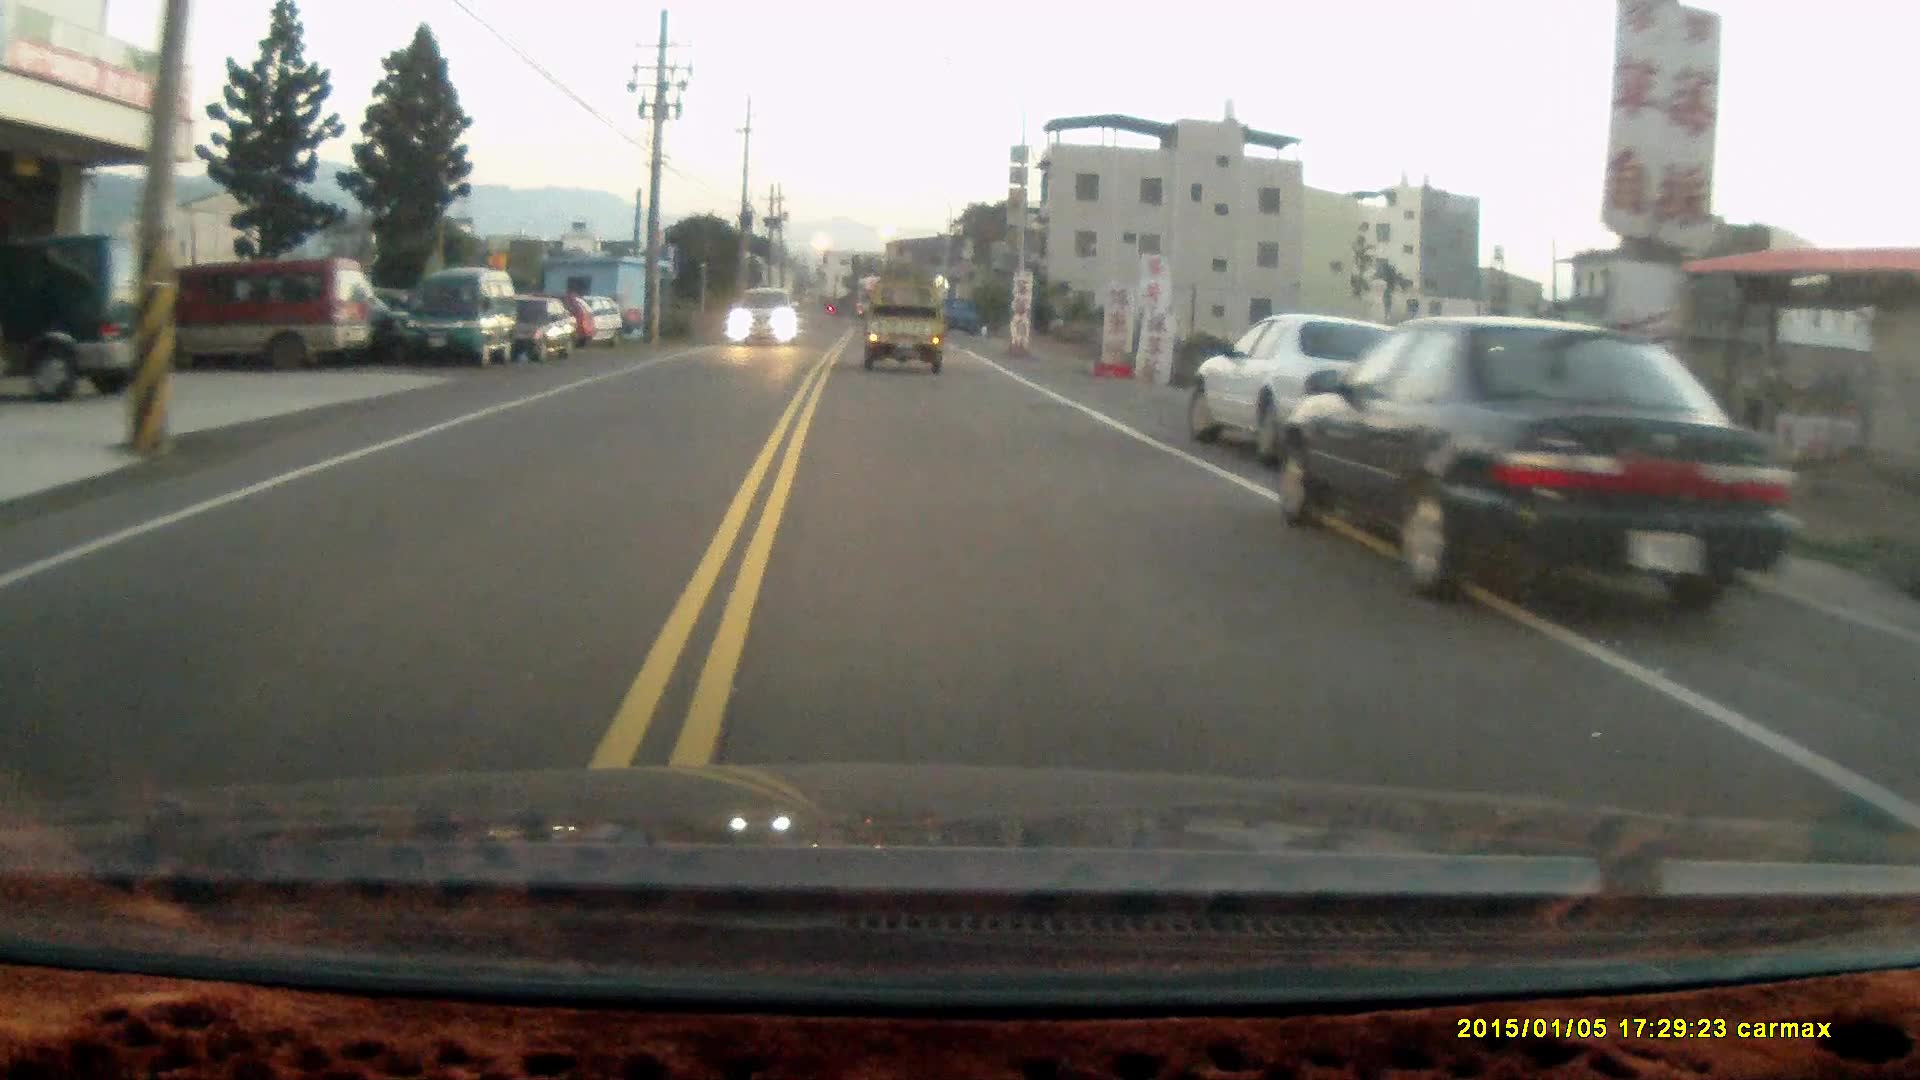vehicle: (1279, 319, 1762, 647), (0, 239, 185, 402), (1189, 316, 1394, 464), (142, 257, 380, 378), (404, 272, 522, 373), (865, 281, 945, 378), (485, 293, 578, 365), (723, 290, 803, 349)
